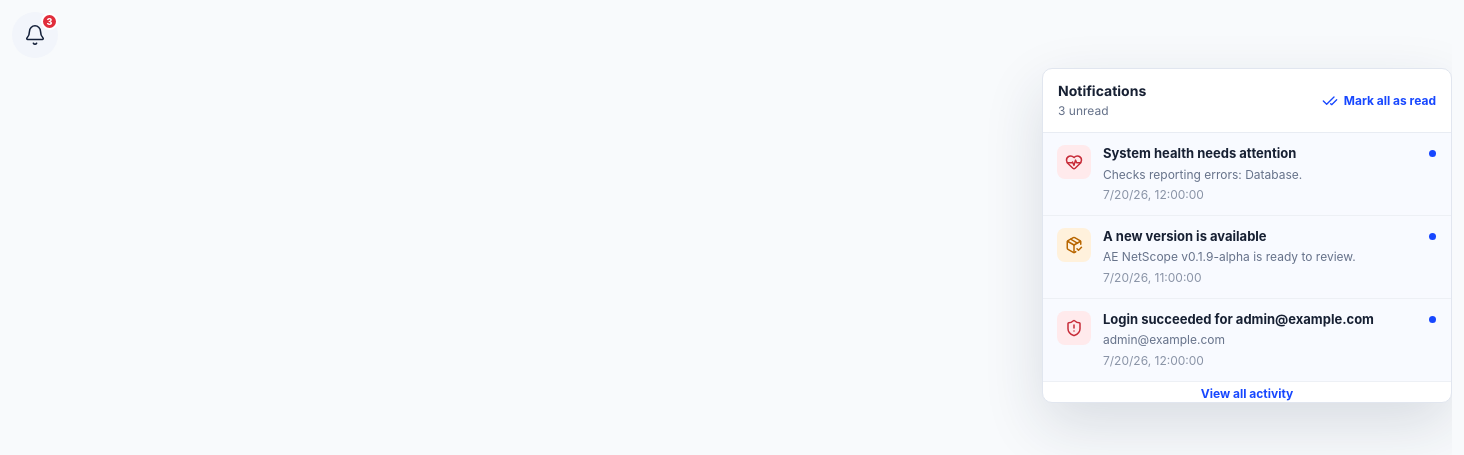
Test: NotificationCenter › adds health and update alerts and marks all visible notifications as read
This screenshot has width=1464, height=455.
Expected: the text "System health needs attention" is shown, [1103,145,1296,161]
Expected: the text "A new version is available" is shown, [1103,228,1267,244]
Click the button "Mark all as read". click: (1379, 100)
box: [1322,92,1436,108]
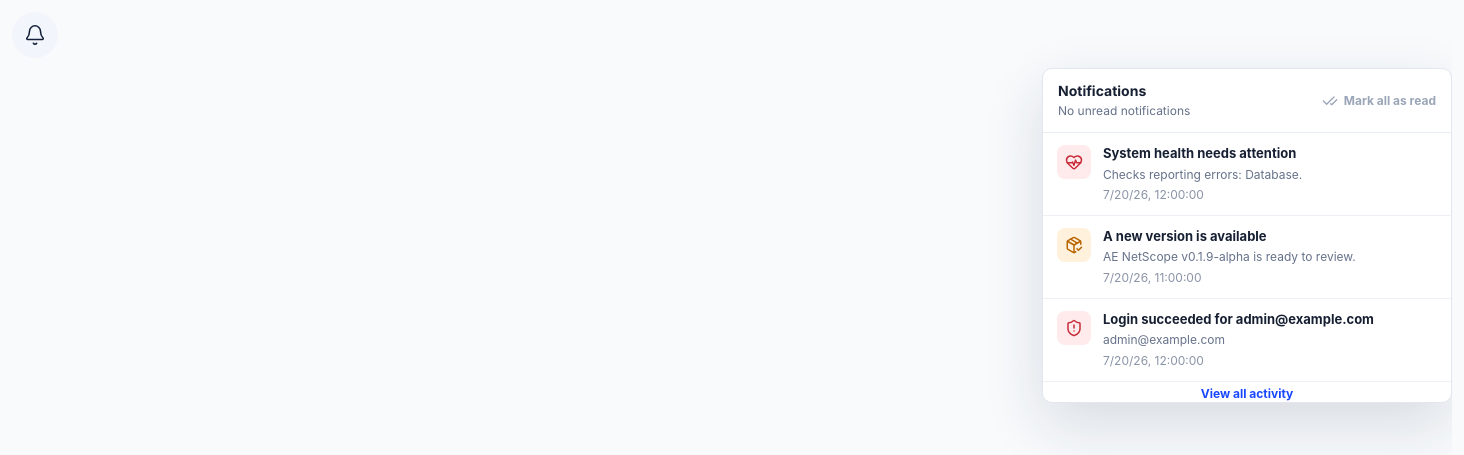
Expected: the button named "Notifications" is shown, [12,12,58,58]
Expected: the text "No unread notifications" is shown, [1058,103,1190,118]
